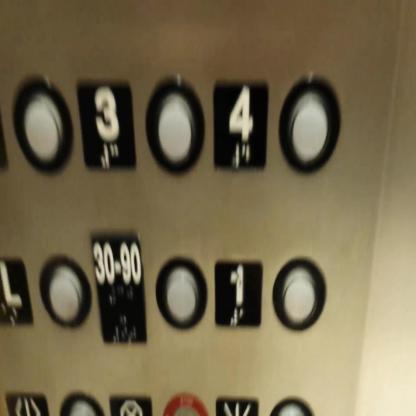1: (211, 254, 264, 333)
3: (73, 76, 138, 173)
4: (210, 73, 270, 175)
empty: (142, 72, 206, 178), (278, 70, 342, 176), (10, 72, 74, 176), (271, 252, 328, 332), (154, 252, 210, 332), (36, 250, 92, 329)
text_30-90: (90, 226, 149, 344)
